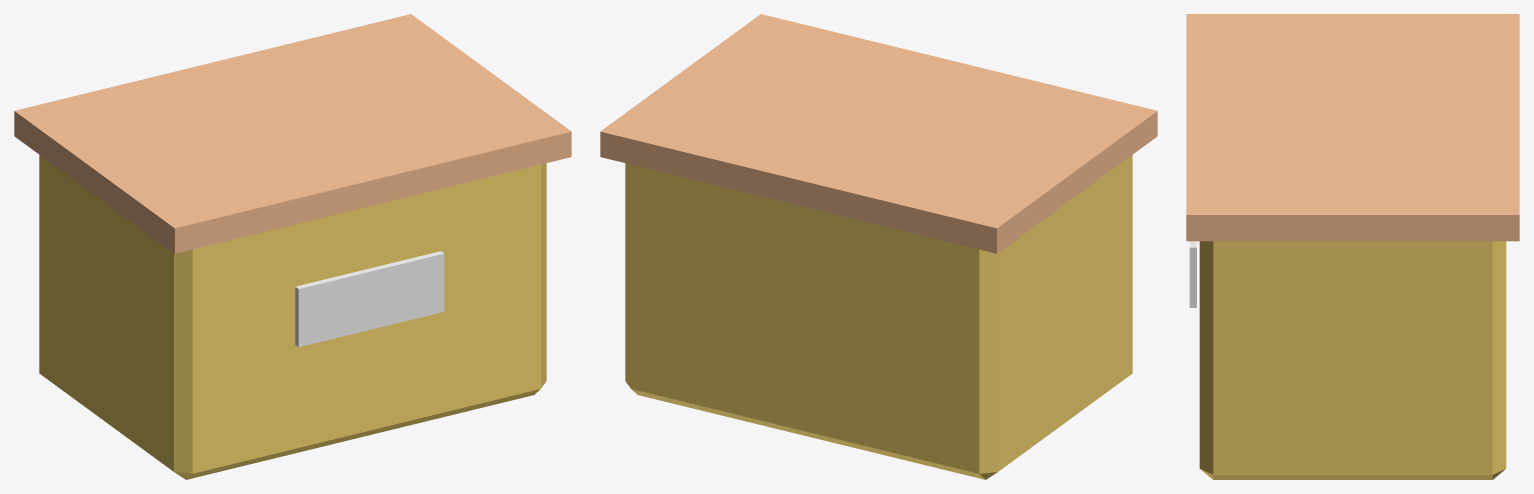
3 renders of one model, left to right at view 1: azimuth 30°, elevation 25°; view 2: azimuth 150°, elevation 25°; view 3: azimuth 270°, elevation 25°, orthographic. The views are drawn at different scales.
Parts seen in each view (by area): view 1: Box, Lid, Label; view 2: Box, Lid; view 3: Lid, Box, Label.
Part boxes in pixels (<box>): Box: <box>39,155,546,479</box>; Lid: <box>14,14,571,253</box>; Label: <box>295,251,444,346</box>; Box: <box>625,155,1132,479</box>; Lid: <box>600,14,1157,253</box>; Lid: <box>1186,14,1519,241</box>; Box: <box>1199,241,1506,479</box>; Label: <box>1189,241,1196,307</box>.
Bounding box in the file's own units: 68.6 × 44.1 × 48.1.
